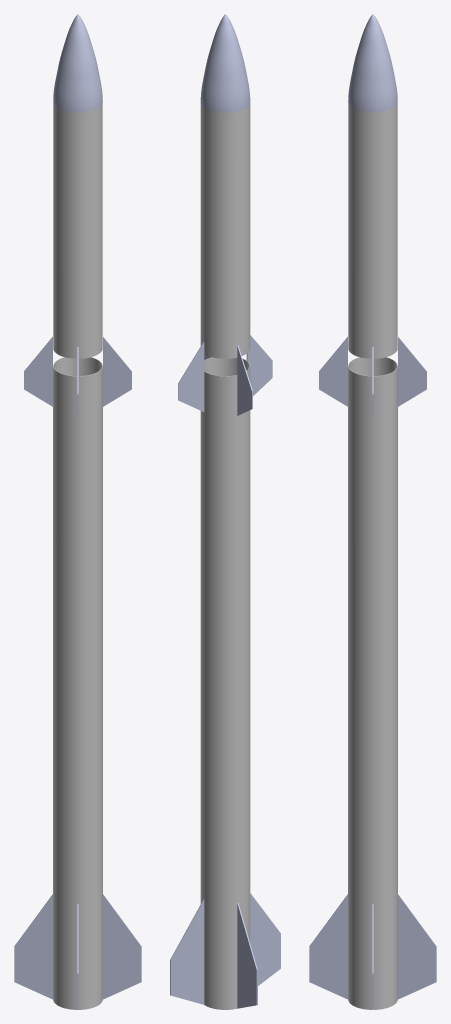
File: IREC_MainAssembly.glb
3 renders of one model, left to right at view 1: azimuth 90°, elevation 25°; view 2: azimuth 210°, elevation 25°; view 3: azimuth 270°, elevation 25°, orthographic.
Visible parts, largest first — view 1: Fuselage_Lower-1, Fuselage_Upper-1, NoseCone-1, Fin-4, Fin-2, ControlFin-4, ControlFin-2; view 2: Fuselage_Lower-1, Fuselage_Upper-1, NoseCone-1, Fin-3, Fin-1, Fin-2, ControlFin-3, ControlFin-1, ControlFin-2; view 3: Fuselage_Lower-1, Fuselage_Upper-1, NoseCone-1, Fin-4, Fin-2, ControlFin-4, ControlFin-2.
Part boxes in pixels (bbox=[...]): Fuselage_Lower-1: bbox=[53, 357, 102, 1009]; Fuselage_Upper-1: bbox=[53, 104, 102, 358]; NoseCone-1: bbox=[53, 14, 102, 112]; Fin-4: bbox=[103, 894, 141, 999]; Fin-2: bbox=[14, 894, 52, 999]; ControlFin-4: bbox=[103, 337, 131, 406]; ControlFin-2: bbox=[24, 337, 52, 406]; Fuselage_Lower-1: bbox=[200, 357, 250, 1009]; Fuselage_Upper-1: bbox=[200, 103, 250, 358]; NoseCone-1: bbox=[200, 14, 250, 112]; Fin-3: bbox=[170, 899, 204, 1004]; Fin-1: bbox=[250, 893, 280, 985]; Fin-2: bbox=[237, 903, 257, 1008]; ControlFin-3: bbox=[178, 341, 204, 411]; ControlFin-1: bbox=[246, 335, 272, 395]; ControlFin-2: bbox=[237, 345, 252, 415]; Fuselage_Lower-1: bbox=[348, 357, 397, 1009]; Fuselage_Upper-1: bbox=[348, 104, 397, 358]; NoseCone-1: bbox=[348, 14, 397, 112]; Fin-4: bbox=[309, 894, 347, 999]; Fin-2: bbox=[398, 894, 436, 999]; ControlFin-4: bbox=[319, 337, 347, 406]; ControlFin-2: bbox=[398, 337, 426, 406].
Size of the model in its own units: 0.1666 by 1.42 by 0.1666.
